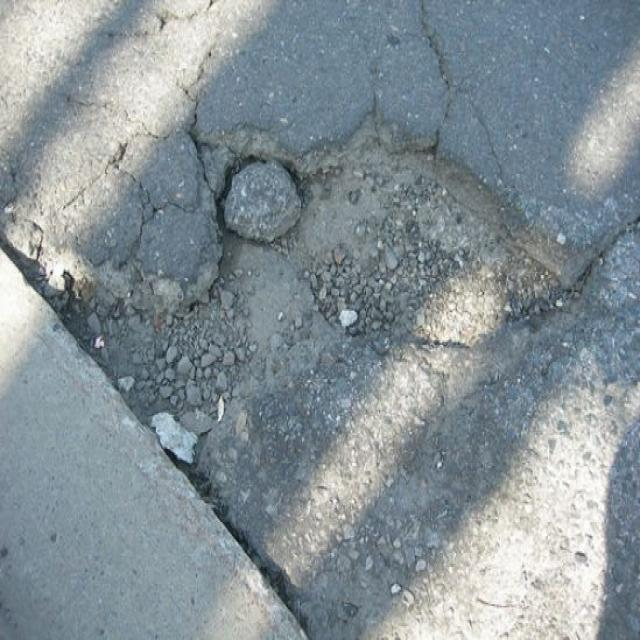pothole: (50, 108, 593, 562)
